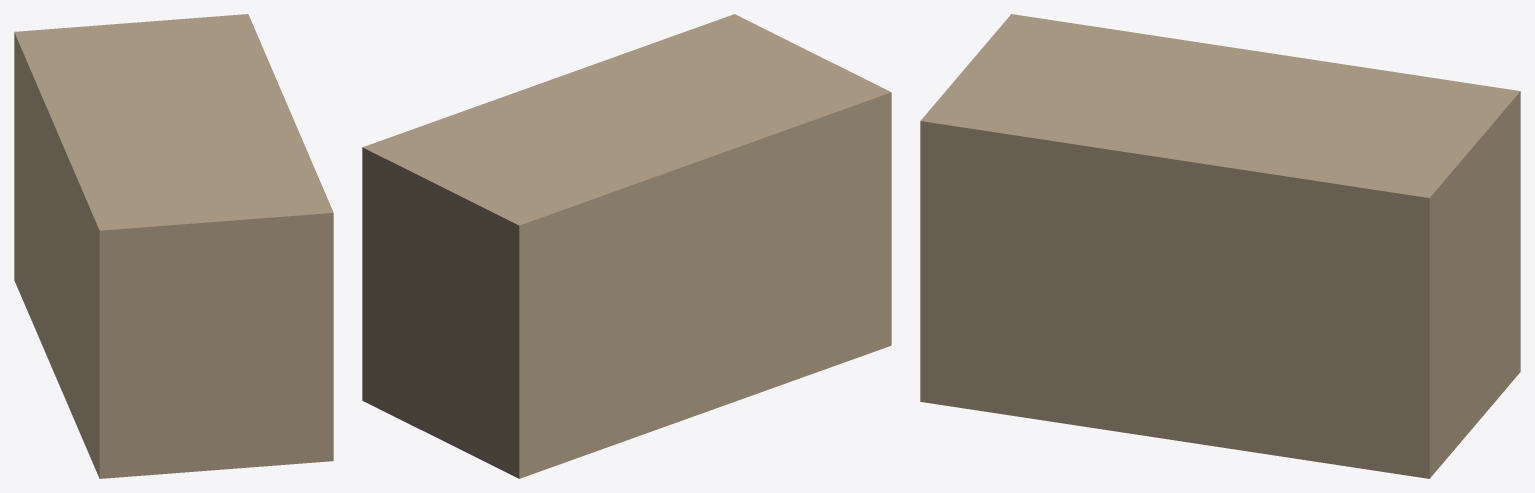
Rendered from bld_104408973.dae.
3 views of the same model, side by side, from view 1: azimuth 30°, elevation 25°; view 2: azimuth 150°, elevation 25°; view 3: azimuth 270°, elevation 25° (orthographic). The views are drawn at different scales.
Parts seen in each view (by area): view 1: bld_104408973; view 2: bld_104408973; view 3: bld_104408973.
Part boxes in pixels (<box>): bld_104408973: <box>14,14,333,478</box>; bld_104408973: <box>362,14,891,478</box>; bld_104408973: <box>920,14,1520,478</box>.
Size of the model in its own units: 9.84 by 13.56 by 7.
